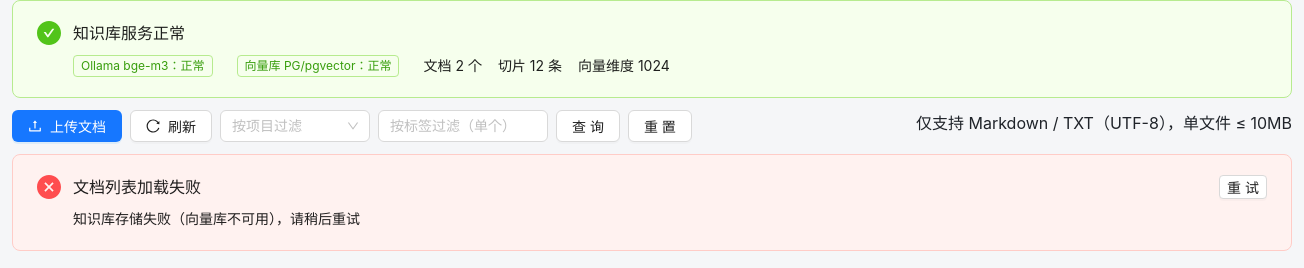
Test: 知识库页：文档表格 › documents 加载失败：错误 Alert + 重试按钮可恢复
Expected: the text "文档列表加载失败" is shown, [73, 177, 201, 197]
Expected: the text "知识库存储失败（向量库不可用），请稍后重试" is shown, [73, 210, 360, 227]
Click the button "重 试". click: (1243, 187)
box: [1219, 175, 1267, 199]
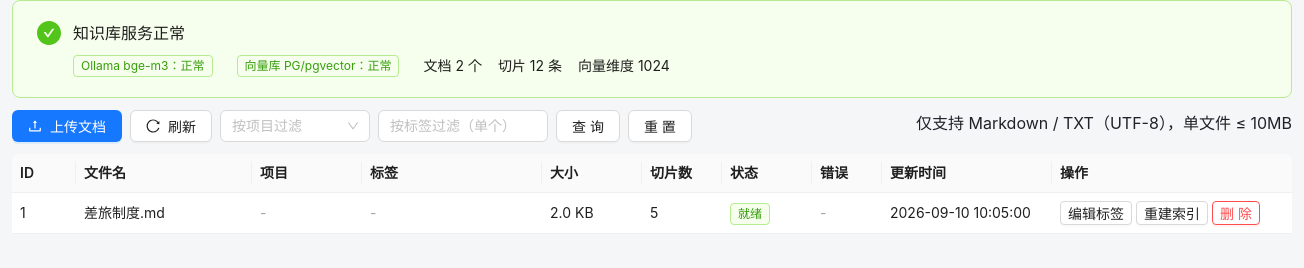
Expected: the text "差旅制度.md" is shown, [84, 202, 165, 224]
